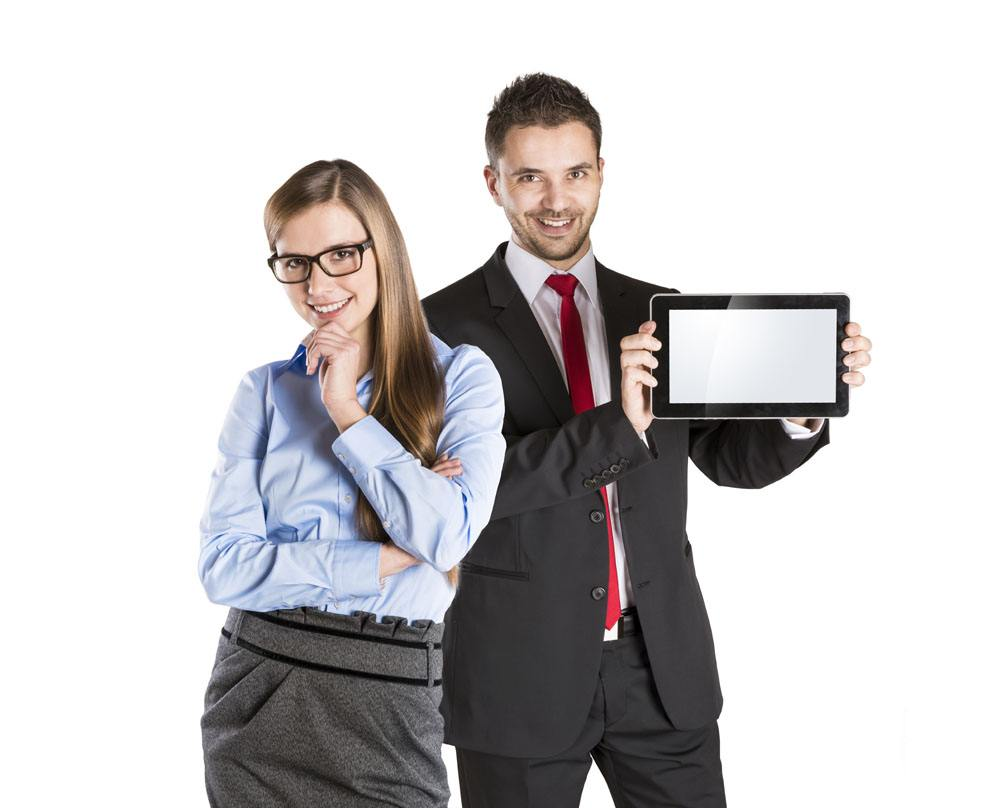pad: (618, 280, 877, 455)
